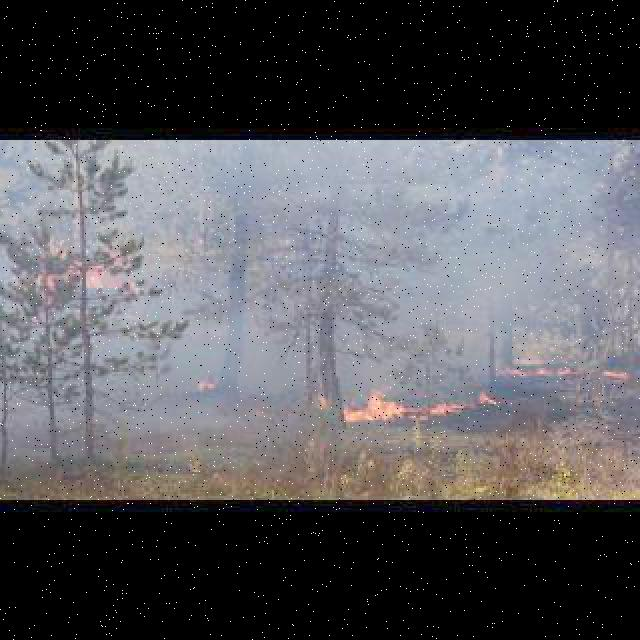fire: (45, 249, 140, 301), (489, 356, 635, 386), (346, 391, 481, 422)
smoke: (135, 143, 620, 455)
